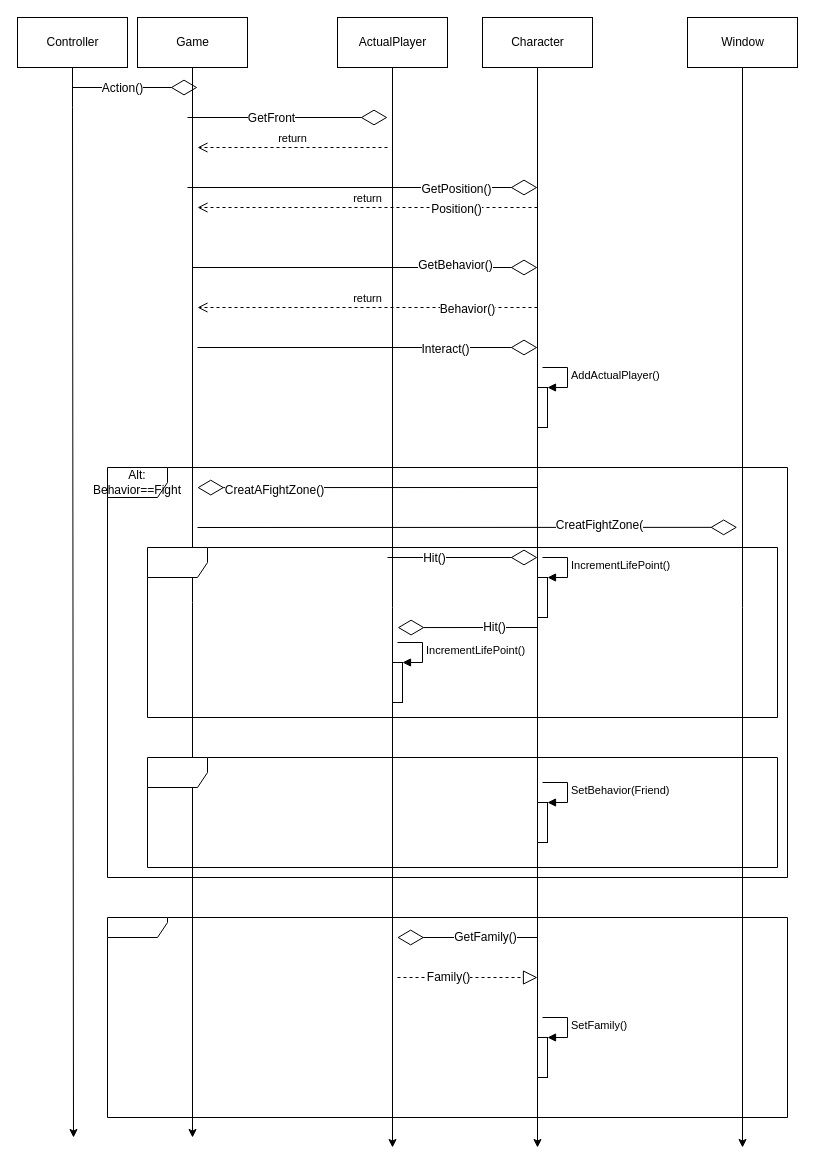
The diagram is 815 pixels wide and 1173 high, and some of its shapes have lost their labels. Each missing label, with the centre of its shape:
"Alt: Win" goes at (462,812).
"Alt; Behavior=Friend" goes at (447,1017).
"Loop:One Lose" goes at (462,632).
